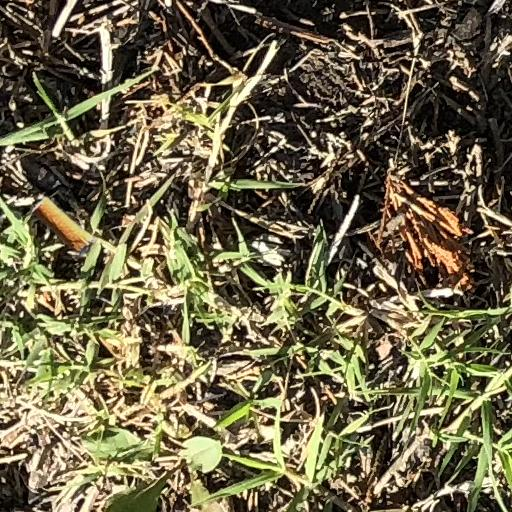smoke: (33, 198, 96, 255)
